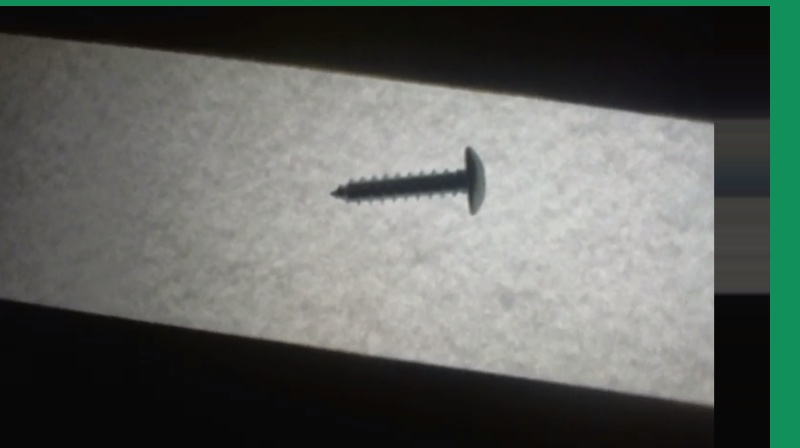S003: (323, 143, 490, 215)
